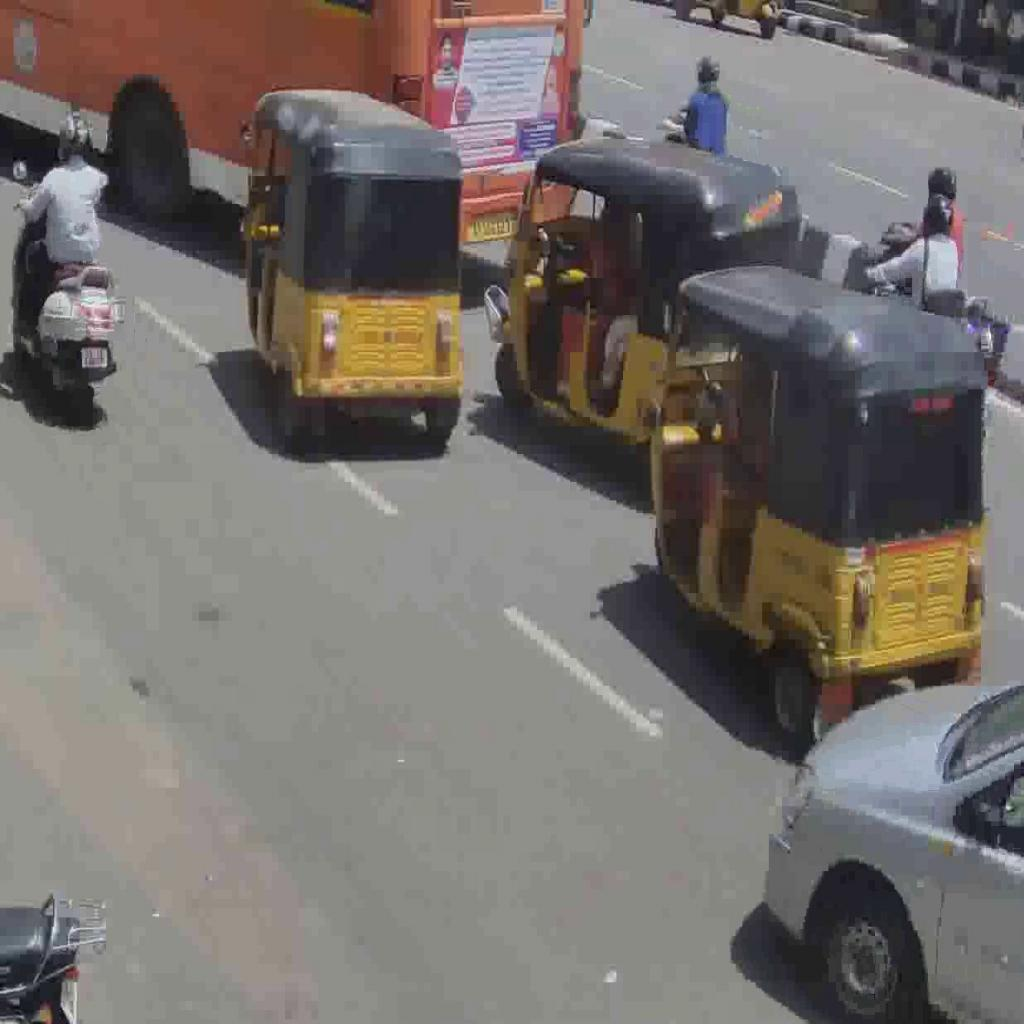helmet: (12, 198, 127, 406)
